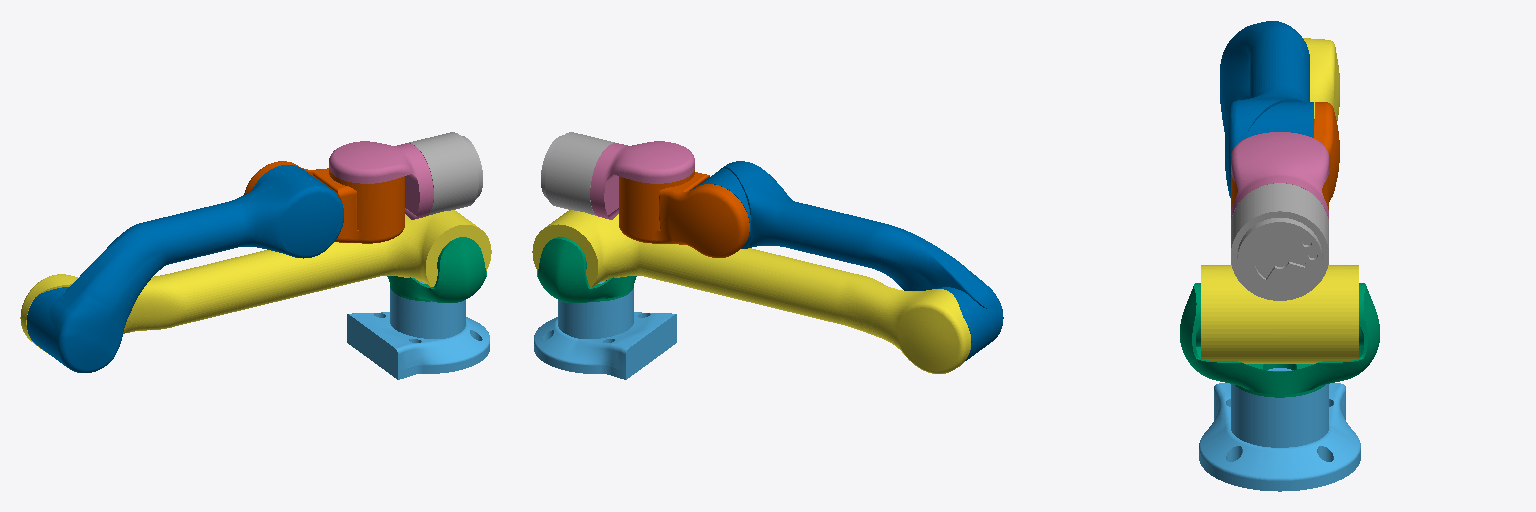
robot.urdf — z1_description:
<?xml version="1.0" ?>
<!-- =================================================================================== -->
<!-- |    This document was autogenerated by xacro from robot.xacro                    | -->
<!-- |    EDITING THIS FILE BY HAND IS NOT RECOMMENDED                                 | -->
<!-- =================================================================================== -->
<robot name="z1_description">
  <gazebo>
    <plugin filename="libgazebo_ros_control.so" name="gazebo_ros_control">
      <robotNamespace>/z1_gazebo</robotNamespace>
      <robotSimType>gazebo_ros_control/DefaultRobotHWSim</robotSimType>
    </plugin>
  </gazebo>
  <gazebo reference="link04">
    <self_collide>true</self_collide>
  </gazebo>
  <gazebo reference="link05">
    <self_collide>true</self_collide>
  </gazebo>
  <gazebo reference="link06">
    <self_collide>true</self_collide>
  </gazebo>
  <link name="world"/>
  <joint name="base_static_joint" type="fixed">
    <origin rpy="0 0 0" xyz="0 0 0"/>
    <parent link="world"/>
    <child link="link00"/>
  </joint>
  <link name="link00">
    <visual>
      <origin rpy="0 0 0" xyz="0 0 0"/>
      <geometry>
        <mesh filename="package://z1_description/meshes/visual/z1_Link00.stl" scale="1 1 1"/>
      </geometry>
    </visual>
    <collision>
      <geometry>
        <cylinder length="0.051" radius="0.0325"/>
      </geometry>
      <origin rpy="0 0 0" xyz="0 0 0.0255"/>
    </collision>
    <inertial>
      <origin rpy="0 0 0" xyz="-0.00334984 -0.00013615 0.02495843"/>
      <mass value="0.47247481"/>
      <inertia ixx="0.00037937" ixy="-3.5e-07" ixz="-1.037e-05" iyy="0.00041521" iyz="-9.9e-07" izz="0.00053066"/>
    </inertial>
  </link>
  <joint name="joint1" type="revolute">
    <origin rpy="0 0 0" xyz="0 0 0.0585"/>
    <parent link="link00"/>
    <child link="link01"/>
    <axis xyz="0 0 1"/>
    <dynamics damping="1.0" friction="1.0"/>
    <limit effort="30.0" lower="-2.6179938779914944" upper="2.6179938779914944" velocity="3.1415"/>
  </joint>
  <link name="link01">
    <visual>
      <origin rpy="0 0 0" xyz="0 0 0"/>
      <geometry>
        <mesh filename="package://z1_description/meshes/visual/z1_Link01.stl" scale="1 1 1"/>
      </geometry>
    </visual>
    <inertial>
      <origin rpy="0 0 0" xyz="2.47e-06 -0.00025198 0.02317169"/>
      <mass value="0.67332551"/>
      <inertia ixx="0.00128328" ixy="-6e-08" ixz="-4e-07" iyy="0.00071931" iyz="5e-07" izz="0.00083936"/>
    </inertial>
  </link>
  <joint name="joint2" type="revolute">
    <origin rpy="0 0 0" xyz="0 0 0.045"/>
    <parent link="link01"/>
    <child link="link02"/>
    <axis xyz="0 1 0"/>
    <dynamics damping="2.0" friction="2.0"/>
    <limit effort="60.0" lower="0.0" upper="2.9670597283903604" velocity="3.1415"/>
  </joint>
  <link name="link02">
    <visual>
      <origin rpy="0 0 0" xyz="0 0 0"/>
      <geometry>
        <mesh filename="package://z1_description/meshes/visual/z1_Link02.stl" scale="1 1 1"/>
      </geometry>
    </visual>
    <collision>
      <geometry>
        <cylinder length="0.102" radius="0.0325"/>
      </geometry>
      <origin rpy="1.5707963267948966 0 0" xyz="0 0 0"/>
    </collision>
    <collision>
      <geometry>
        <cylinder length="0.235" radius="0.0225"/>
      </geometry>
      <origin rpy="0 1.5707963267948966 0" xyz="-0.16249999999999998 0 0"/>
    </collision>
    <collision>
      <geometry>
        <cylinder length="0.051" radius="0.0325"/>
      </geometry>
      <origin rpy="1.5707963267948966 0 0" xyz="-0.35 0 0"/>
    </collision>
    <inertial>
      <origin rpy="0 0 0" xyz="-0.11012601 0.00240029 0.00158266"/>
      <mass value="1.19132258"/>
      <inertia ixx="0.00102138" ixy="0.00062358" ixz="5.13e-06" iyy="0.02429457" iyz="-2.1e-06" izz="0.02466114"/>
    </inertial>
  </link>
  <joint name="joint3" type="revolute">
    <origin rpy="0 0 0" xyz="-0.35 0 0"/>
    <parent link="link02"/>
    <child link="link03"/>
    <axis xyz="0 1 0"/>
    <dynamics damping="1.0" friction="1.0"/>
    <limit effort="30.0" lower="-2.8797932657906435" upper="0.0" velocity="3.1415"/>
  </joint>
  <link name="link03">
    <visual>
      <origin rpy="0 0 0" xyz="0 0 0"/>
      <geometry>
        <mesh filename="package://z1_description/meshes/visual/z1_Link03.stl" scale="1 1 1"/>
      </geometry>
    </visual>
    <collision>
      <geometry>
        <cylinder length="0.116" radius="0.02"/>
      </geometry>
      <origin rpy="0 1.5707963267948966 0" xyz="0.128 0 0.055"/>
    </collision>
    <collision>
      <geometry>
        <cylinder length="0.059" radius="0.0325"/>
      </geometry>
      <origin rpy="0 1.5707963267948966 1.5707963267948966" xyz="0.2205 0 0.055"/>
    </collision>
    <inertial>
      <origin rpy="0 0 0" xyz="0.10609208 -0.00541815 0.03476383"/>
      <mass value="0.83940874"/>
      <inertia ixx="0.00108061" ixy="-8.669e-05" ixz="-0.00208102" iyy="0.00954238" iyz="-1.332e-05" izz="0.00886621"/>
    </inertial>
  </link>
  <joint name="joint4" type="revolute">
    <origin rpy="0 0 0" xyz="0.218 0 0.057"/>
    <parent link="link03"/>
    <child link="link04"/>
    <axis xyz="0 1 0"/>
    <dynamics damping="1.0" friction="1.0"/>
    <limit effort="30.0" lower="-1.5184364492350666" upper="1.5184364492350666" velocity="3.1415"/>
  </joint>
  <link name="link04">
    <visual>
      <origin rpy="0 0 0" xyz="0 0 0"/>
      <geometry>
        <mesh filename="package://z1_description/meshes/visual/z1_Link04.stl" scale="1 1 1"/>
      </geometry>
    </visual>
    <collision>
      <geometry>
        <cylinder length="0.067" radius="0.0325"/>
      </geometry>
      <origin rpy="0 0 0" xyz="0.072 0 0"/>
    </collision>
    <inertial>
      <origin rpy="0 0 0" xyz="0.04366681 0.00364738 -0.00170192"/>
      <mass value="0.56404563"/>
      <inertia ixx="0.00031576" ixy="8.13e-05" ixz="4.091e-05" iyy="0.00092996" iyz="-5.96e-06" izz="0.00097912"/>
    </inertial>
  </link>
  <joint name="joint5" type="revolute">
    <origin rpy="0 0 0" xyz="0.07 0.0 0.0"/>
    <parent link="link04"/>
    <child link="link05"/>
    <axis xyz="0 0 1"/>
    <dynamics damping="1.0" friction="1.0"/>
    <limit effort="30.0" lower="-1.3439035240356338" upper="1.3439035240356338" velocity="3.1415"/>
  </joint>
  <link name="link05">
    <visual>
      <origin rpy="0 0 0" xyz="0 0 0"/>
      <geometry>
        <mesh filename="package://z1_description/meshes/visual/z1_Link05.stl" scale="1 1 1"/>
      </geometry>
    </visual>
    <inertial>
      <origin rpy="0 0 0" xyz="0.03121533 0.0 0.00646316"/>
      <mass value="0.38938492"/>
      <inertia ixx="0.00017605" ixy="4e-07" ixz="5.689e-05" iyy="0.00055896" iyz="-1.3e-07" izz="0.0005386"/>
    </inertial>
  </link>
  <joint name="joint6" type="revolute">
    <origin rpy="0 0 0" xyz="0.0492 0.0 0.0"/>
    <parent link="link05"/>
    <child link="link06"/>
    <axis xyz="1 0 0"/>
    <dynamics damping="1.0" friction="1.0"/>
    <limit effort="30.0" lower="-2.792526803190927" upper="2.792526803190927" velocity="3.1415"/>
  </joint>
  <link name="link06">
    <visual>
      <origin rpy="0 0 0" xyz="0 0 0"/>
      <geometry>
        <mesh filename="package://z1_description/meshes/visual/z1_Link06.stl" scale="1 1 1"/>
      </geometry>
    </visual>
    <collision>
      <geometry>
        <cylinder length="0.051" radius="0.0325"/>
      </geometry>
      <origin rpy="0 1.5707963267948966 0" xyz="0.0255 0 0"/>
    </collision>
    <inertial>
      <origin rpy="0 0 0" xyz="0.0241569 -0.00017355 -0.00143876"/>
      <mass value="0.28875807"/>
      <inertia ixx="0.00018328" ixy="1.22e-06" ixz="5.4e-07" iyy="0.0001475" iyz="8e-08" izz="0.0001468"/>
    </inertial>
  </link>
  <transmission name="JointTrans1">
    <type>transmission_interface/SimpleTransmission</type>
    <joint name="joint1">
      <hardwareInterface>hardware_interface/EffortJointInterface</hardwareInterface>
    </joint>
    <actuator name="Actuator1">
      <hardwareInterface>hardware_interface/EffortJointInterface</hardwareInterface>
      <mechanicalReduction>1</mechanicalReduction>
    </actuator>
  </transmission>
  <transmission name="JointTrans2">
    <type>transmission_interface/SimpleTransmission</type>
    <joint name="joint2">
      <hardwareInterface>hardware_interface/EffortJointInterface</hardwareInterface>
    </joint>
    <actuator name="Actuator2">
      <hardwareInterface>hardware_interface/EffortJointInterface</hardwareInterface>
      <mechanicalReduction>1</mechanicalReduction>
    </actuator>
  </transmission>
  <transmission name="JointTrans3">
    <type>transmission_interface/SimpleTransmission</type>
    <joint name="joint3">
      <hardwareInterface>hardware_interface/EffortJointInterface</hardwareInterface>
    </joint>
    <actuator name="Actuator3">
      <hardwareInterface>hardware_interface/EffortJointInterface</hardwareInterface>
      <mechanicalReduction>1</mechanicalReduction>
    </actuator>
  </transmission>
  <transmission name="JointTrans4">
    <type>transmission_interface/SimpleTransmission</type>
    <joint name="joint4">
      <hardwareInterface>hardware_interface/EffortJointInterface</hardwareInterface>
    </joint>
    <actuator name="Actuator4">
      <hardwareInterface>hardware_interface/EffortJointInterface</hardwareInterface>
      <mechanicalReduction>1</mechanicalReduction>
    </actuator>
  </transmission>
  <transmission name="JointTrans5">
    <type>transmission_interface/SimpleTransmission</type>
    <joint name="joint5">
      <hardwareInterface>hardware_interface/EffortJointInterface</hardwareInterface>
    </joint>
    <actuator name="Actuator5">
      <hardwareInterface>hardware_interface/EffortJointInterface</hardwareInterface>
      <mechanicalReduction>1</mechanicalReduction>
    </actuator>
  </transmission>
  <transmission name="JointTrans6">
    <type>transmission_interface/SimpleTransmission</type>
    <joint name="joint6">
      <hardwareInterface>hardware_interface/EffortJointInterface</hardwareInterface>
    </joint>
    <actuator name="Actuator6">
      <hardwareInterface>hardware_interface/EffortJointInterface</hardwareInterface>
      <mechanicalReduction>1</mechanicalReduction>
    </actuator>
  </transmission>
</robot>

--- Render facts (derived) ---
The picture shows the robot from 3 angles, left to right: view 1: azimuth 30°, elevation 25°; view 2: azimuth 150°, elevation 25°; view 3: azimuth 270°, elevation 25°; orthographic projection.
Model z1_description with 8 links and 7 joints (6 revolute, 1 fixed), rooted at world, posed all joints at 0.
Visible links, largest first — view 1: link03, link02, link00, link04, link05, link06, link01; view 2: link02, link03, link00, link04, link05, link06, link01; view 3: link02, link00, link03, link06, link01, link05, link04.
Boxes of the visible links, <box> form: link03: <box>27,165,343,372</box>; link02: <box>20,210,491,352</box>; link00: <box>347,281,489,379</box>; link04: <box>244,161,404,243</box>; link05: <box>329,141,433,219</box>; link06: <box>409,132,482,215</box>; link01: <box>387,237,486,302</box>; link02: <box>532,210,970,373</box>; link03: <box>694,161,1003,360</box>; link00: <box>534,281,676,379</box>; link04: <box>619,170,749,257</box>; link05: <box>590,141,694,219</box>; link06: <box>541,132,614,215</box>; link01: <box>537,237,636,302</box>; link02: <box>1201,38,1358,363</box>; link00: <box>1199,368,1360,491</box>; link03: <box>1220,21,1313,197</box>; link06: <box>1231,183,1328,300</box>; link01: <box>1180,283,1379,397</box>; link05: <box>1231,132,1328,218</box>; link04: <box>1231,102,1339,209</box>.
Size in the robot's own frame: 0.4357 by 0.1319 by 0.198 metres.
7 mesh visuals loaded from 7 distinct referenced files (7 binary STL).